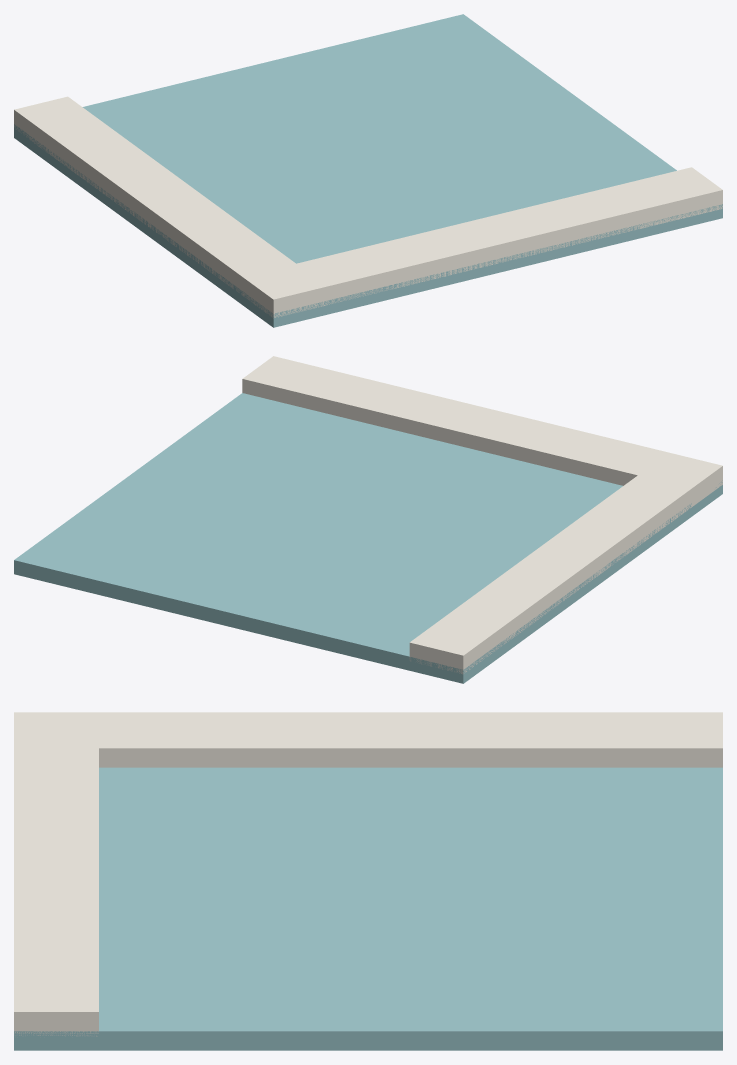
Rendered from water-corner.glb.
The picture shows the model from 3 angles, top to bottom: view 1: azimuth 30°, elevation 25°; view 2: azimuth 150°, elevation 25°; view 3: azimuth 270°, elevation 25°; orthographic projection. The views are drawn at different scales.
Parts seen in each view (by area): view 1: water-corner; view 2: water-corner; view 3: water-corner.
Boxes of the visible parts, x1,y1,x2,y2 form: water-corner: (14,14,722,327); water-corner: (14,356,722,683); water-corner: (14,712,722,1050).
Size of the model in its own units: 2 by 0.12 by 2.
